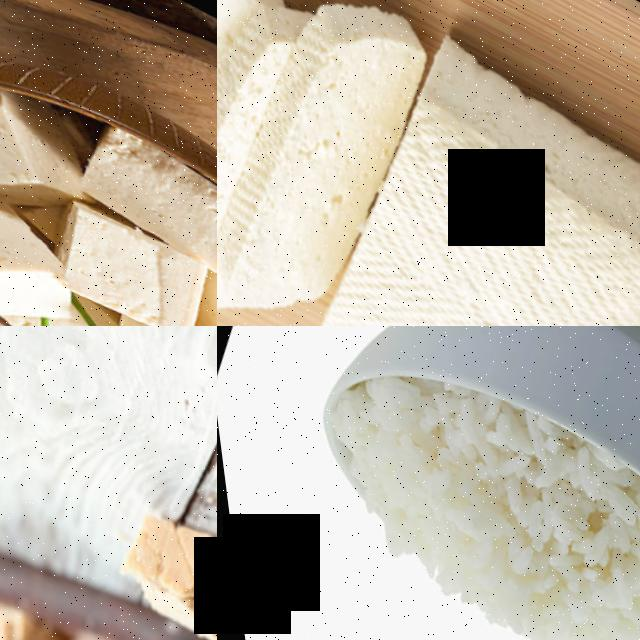tofu: (253, 1, 640, 326), (217, 0, 453, 326), (217, 0, 317, 296), (55, 102, 217, 277), (32, 180, 214, 326), (89, 479, 217, 640), (0, 66, 86, 226), (0, 146, 63, 326), (176, 383, 217, 603)
white rice: (311, 359, 640, 640)
